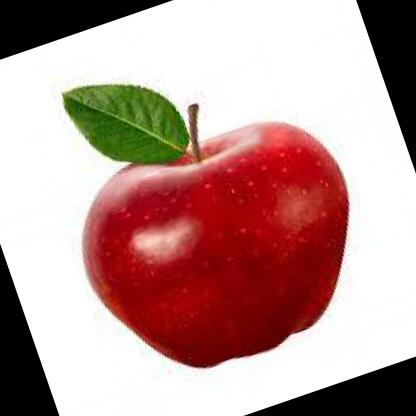apple: (26, 14, 393, 402)
